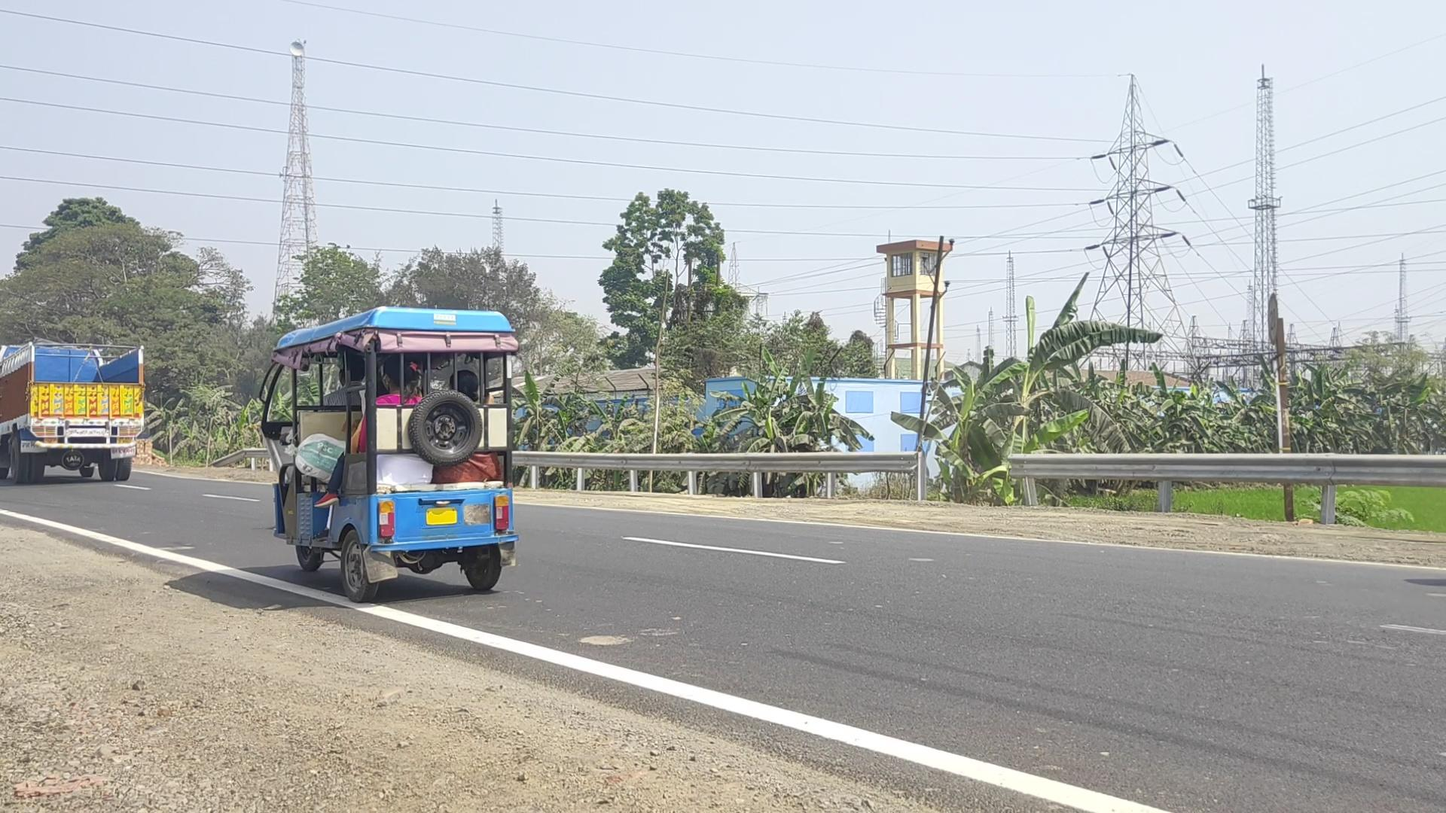Auto: (258, 306, 519, 604)
truck: (1, 341, 145, 484)
